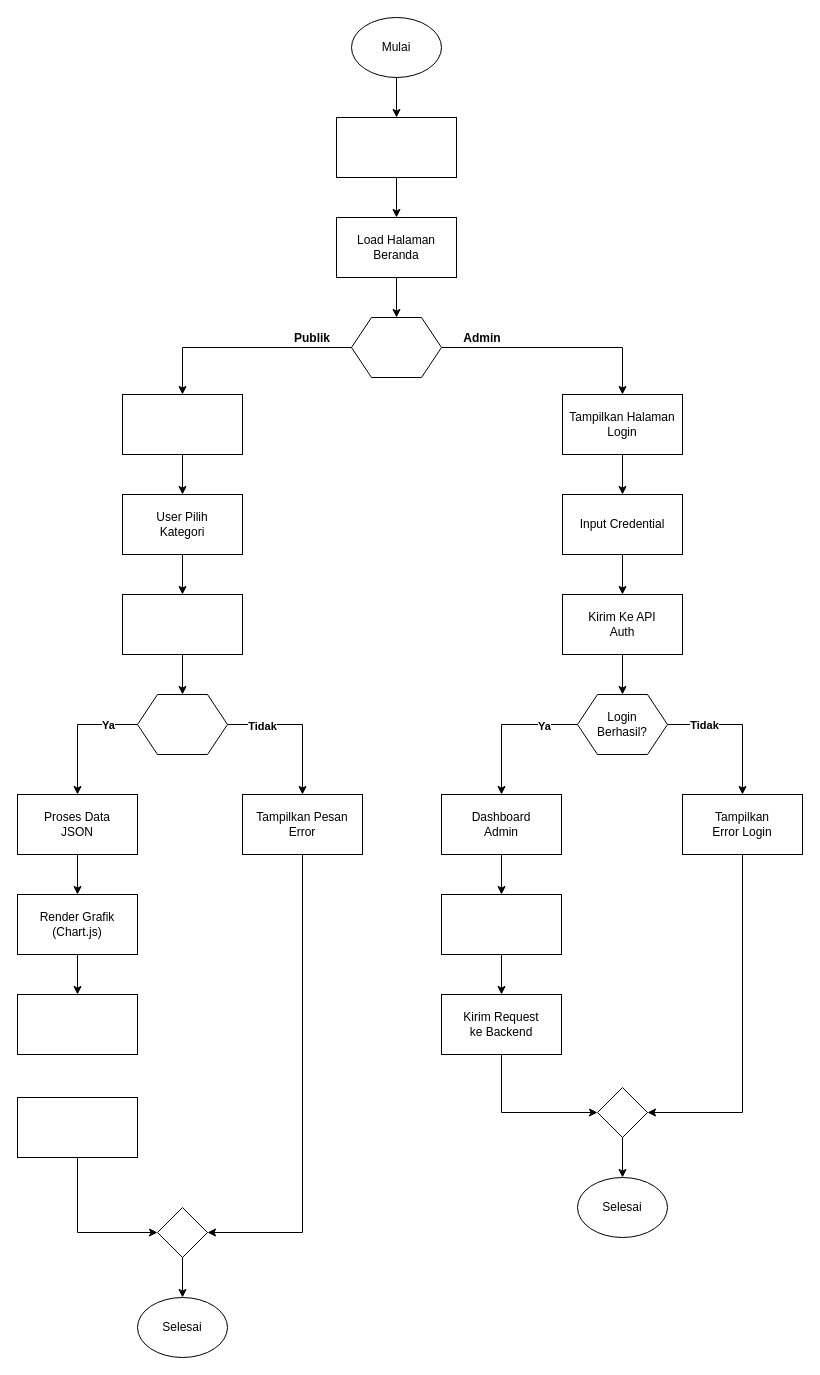
Image size: 820x1375. Some labels were removed from this diagram. The shapes that lost their labels are listed below. From the top down, each one's centre as x and y in pixels, then its label:
At (396,147): "User Akses Website".
At (396,347): "Role User?".
At (182,424): "Tampilkan Menu Kategori".
At (182,624): "Request API Data".
At (182,724): "Response OK?".
At (501,924): "Kelola Data (CRUD)".
At (77,1024): "Tampilkan Tabel Data".
At (77,1127): "User Download Data".
